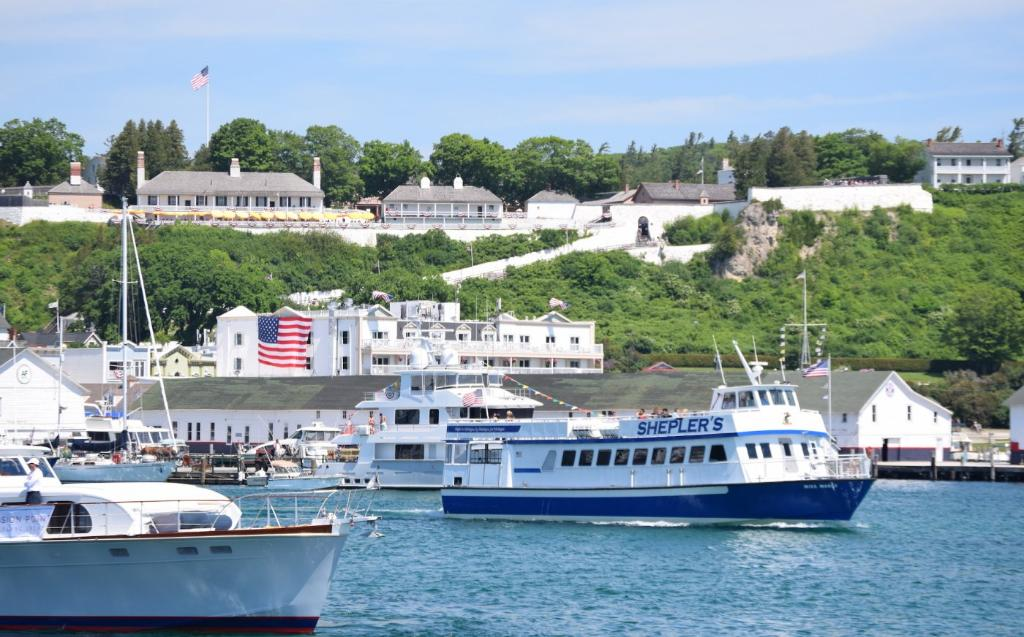PassengerShip: (434, 334, 888, 528), (0, 431, 398, 637), (319, 339, 565, 505)
